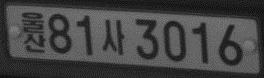0: (163, 19, 186, 62)
1: (74, 13, 94, 57), (190, 21, 209, 65)
3: (133, 17, 159, 60)
6: (217, 22, 243, 66)
8: (48, 13, 72, 53)
사: (100, 17, 126, 56)
울산_V: (20, 10, 47, 54)
